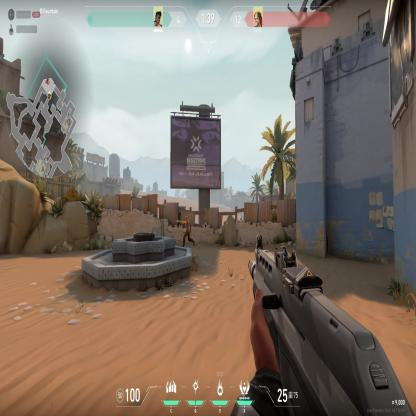enemy: (180, 215, 197, 247)
